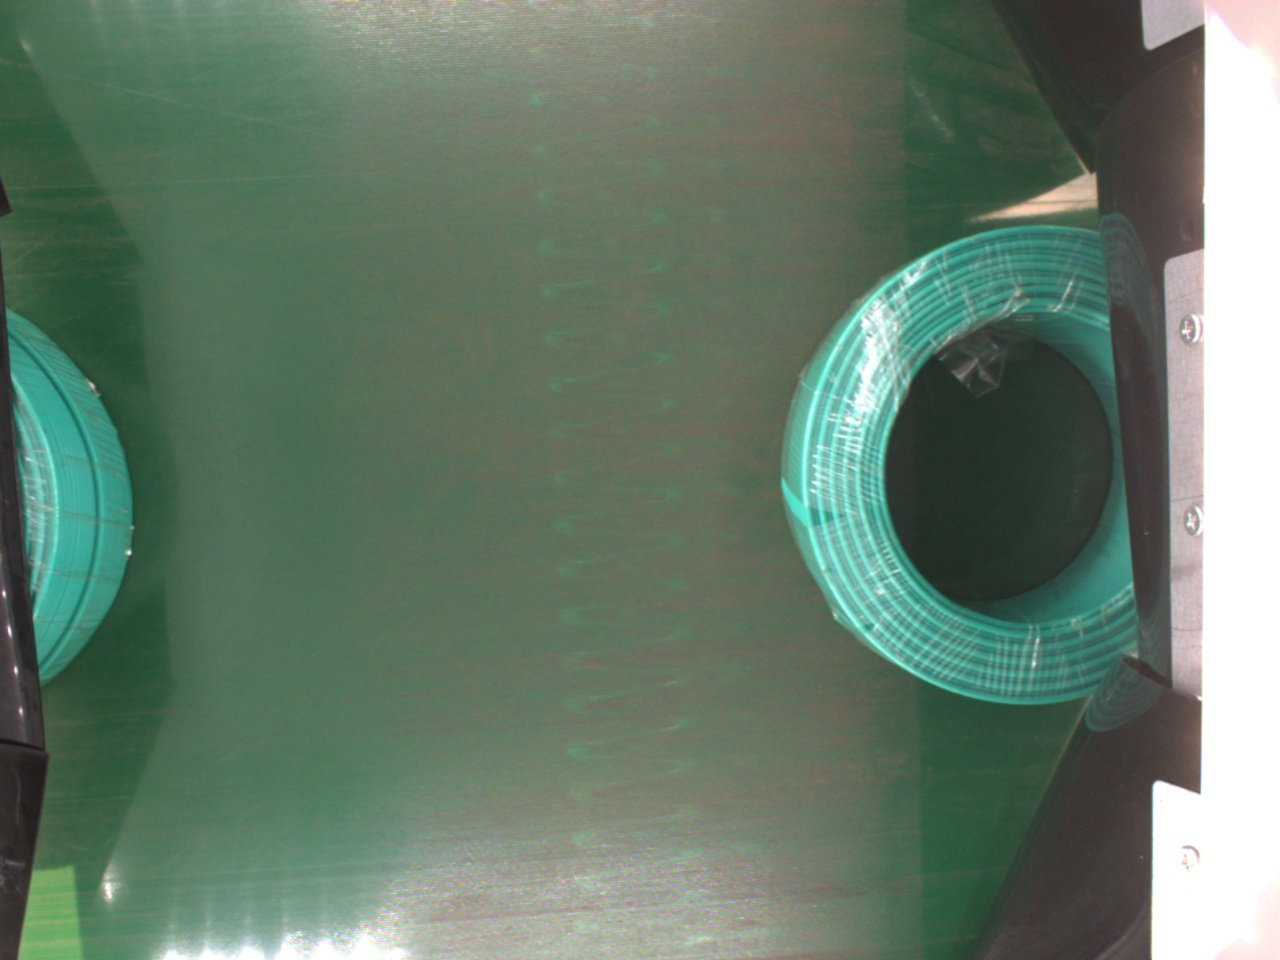green: (762, 219, 1148, 714), (9, 305, 130, 679)
